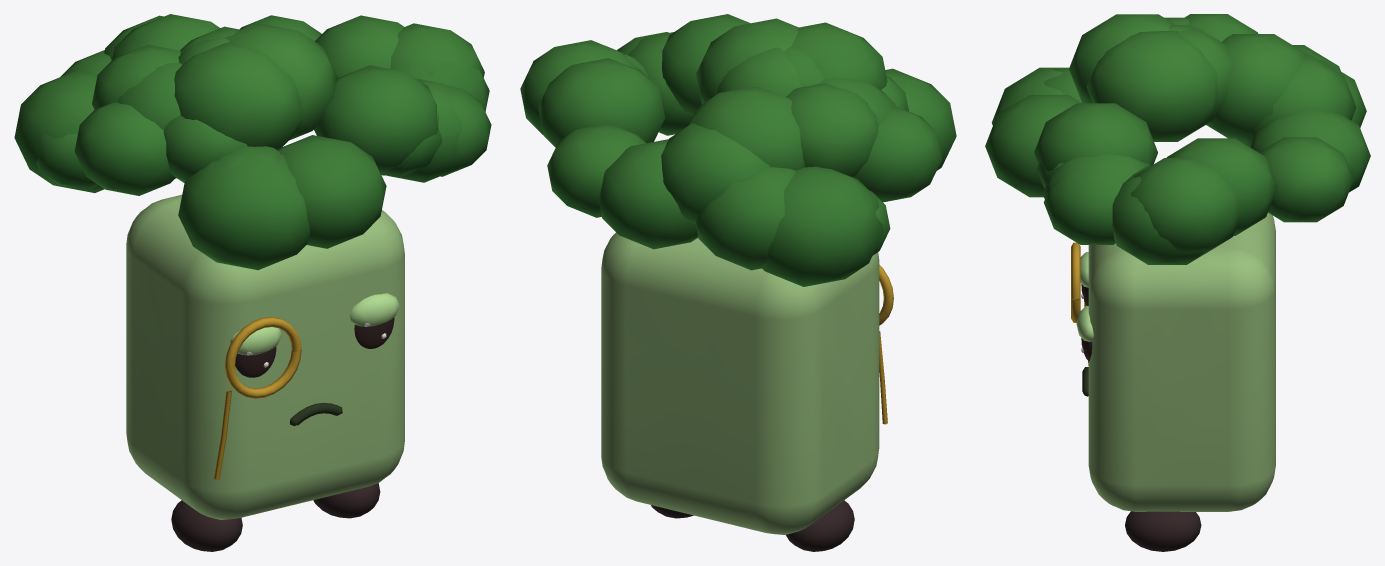
Rendered from folk_floret.glb.
3 renders of one model, left to right at view 1: azimuth 30°, elevation 25°; view 2: azimuth 150°, elevation 25°; view 3: azimuth 270°, elevation 25°, orthographic. The views are drawn at different scales.
Visible parts, largest first — view 1: floret_body, floret_foot_l, floret_eye_r, floret_eye_l, floret_foot_r; view 2: floret_body, floret_foot_l; view 3: floret_body, floret_foot_r, floret_eye_r.
Part boxes in pixels (x1,y1,x2,y2): floret_body: (14, 14, 491, 519); floret_foot_l: (171, 500, 242, 551); floret_eye_r: (350, 293, 399, 348); floret_eye_l: (229, 327, 282, 377); floret_foot_r: (313, 483, 380, 518); floret_body: (520, 14, 956, 534); floret_foot_l: (786, 500, 854, 551); floret_body: (985, 14, 1370, 511); floret_foot_r: (1125, 511, 1201, 551); floret_eye_r: (1076, 306, 1093, 361).
Size of the model in its own units: 0.8379 by 1.02 by 0.7508.
